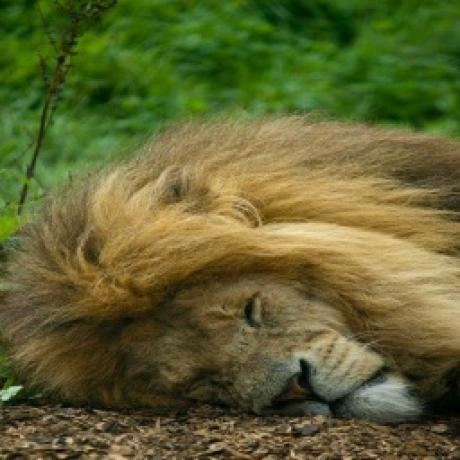Lion: (7, 105, 460, 423)
